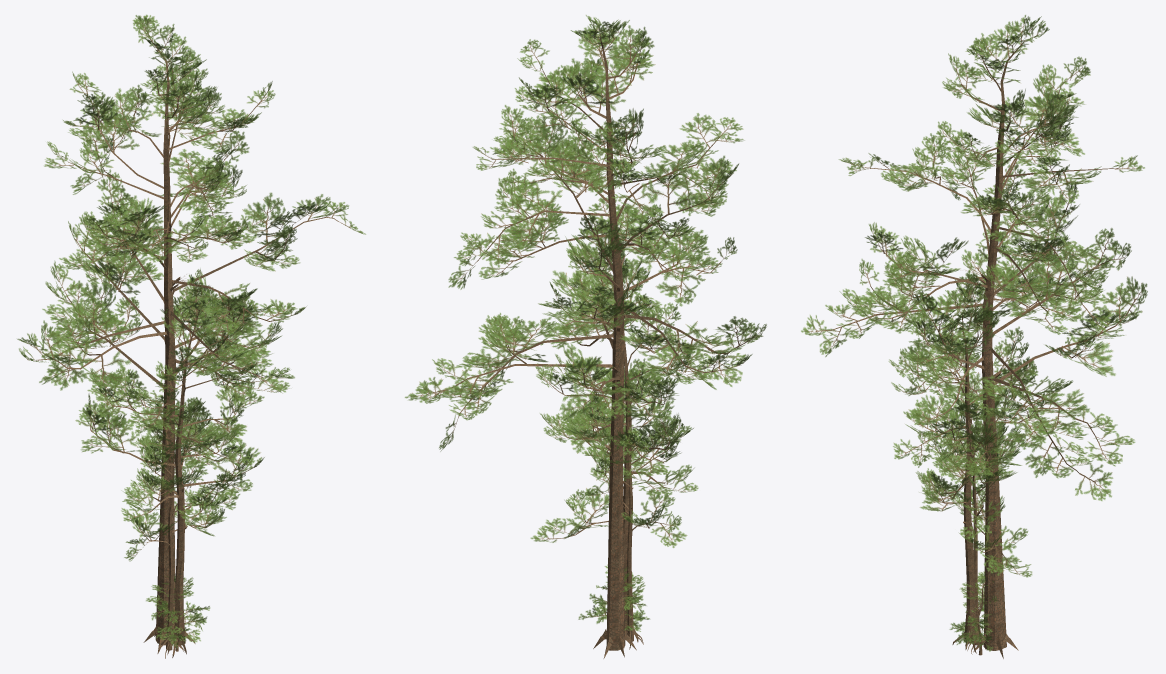
Rendered from canada_pines_selected.glb.
3 views of the same model, side by side, from view 1: azimuth 30°, elevation 25°; view 2: azimuth 150°, elevation 25°; view 3: azimuth 270°, elevation 25° (orthographic). The views are drawn at different scales.
Visible parts, largest first — view 1: Pine_large_2_LOD2_0, Pine_big_3_LOD2_0, Pine_large_2_LOD2_1, Pine_medium_1_LOD2_0, Pine_big_3_LOD2_1, Pine_small_2_LOD2_0, Pine_medium_1_LOD2_1; view 2: Pine_large_2_LOD2_0, Pine_big_3_LOD2_0, Pine_large_2_LOD2_1, Pine_medium_1_LOD2_0, Pine_big_3_LOD2_1, Pine_medium_1_LOD2_1, Pine_small_2_LOD2_0; view 3: Pine_large_2_LOD2_0, Pine_big_3_LOD2_0, Pine_large_2_LOD2_1, Pine_medium_1_LOD2_0, Pine_big_3_LOD2_1, Pine_small_2_LOD2_0, Pine_medium_1_LOD2_1.
Boxes of the visible parts, x1=… form: Pine_large_2_LOD2_0: x1=17, y1=14, x2=365, y2=393; Pine_big_3_LOD2_0: x1=75, y1=268, x2=289, y2=521; Pine_large_2_LOD2_1: x1=38, y1=40, x2=338, y2=653; Pine_medium_1_LOD2_0: x1=124, y1=389, x2=240, y2=561; Pine_big_3_LOD2_1: x1=90, y1=296, x2=266, y2=657; Pine_small_2_LOD2_0: x1=146, y1=576, x2=210, y2=647; Pine_medium_1_LOD2_1: x1=146, y1=416, x2=219, y2=658; Pine_large_2_LOD2_0: x1=405, y1=15, x2=766, y2=451; Pine_big_3_LOD2_0: x1=535, y1=241, x2=717, y2=494; Pine_large_2_LOD2_1: x1=452, y1=39, x2=749, y2=658; Pine_medium_1_LOD2_0: x1=530, y1=358, x2=687, y2=547; Pine_big_3_LOD2_1: x1=552, y1=261, x2=694, y2=642; Pine_medium_1_LOD2_1: x1=562, y1=390, x2=670, y2=649; Pine_small_2_LOD2_0: x1=578, y1=564, x2=649, y2=631; Pine_large_2_LOD2_0: x1=801, y1=15, x2=1147, y2=500; Pine_big_3_LOD2_0: x1=888, y1=270, x2=1062, y2=522; Pine_large_2_LOD2_1: x1=831, y1=41, x2=1126, y2=658; Pine_medium_1_LOD2_0: x1=917, y1=368, x2=1032, y2=577; Pine_big_3_LOD2_1: x1=910, y1=294, x2=1033, y2=653; Pine_small_2_LOD2_0: x1=949, y1=571, x2=997, y2=651; Pine_medium_1_LOD2_1: x1=932, y1=408, x2=1011, y2=654.
Bounding box in the file's own units: 16.2 × 31.59 × 15.99.
2 materials, 2 textured.
